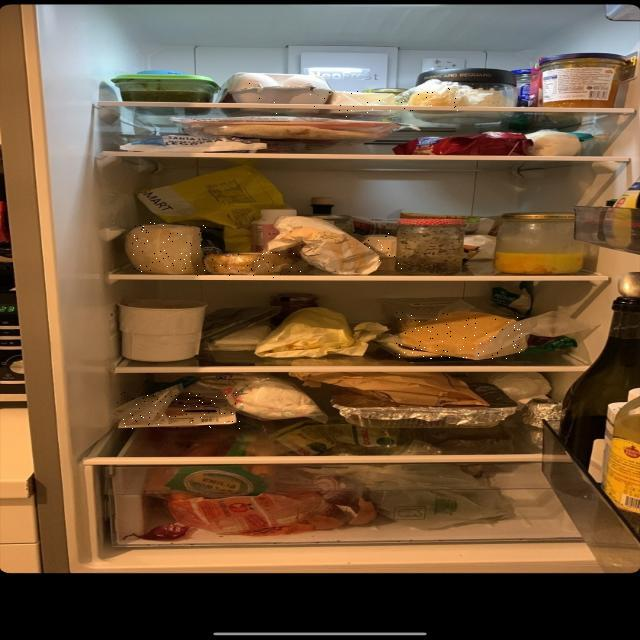butter: (333, 91, 399, 117)
cheese: (395, 312, 522, 359), (130, 222, 210, 276), (210, 252, 307, 278), (364, 233, 408, 272)
eggs: (224, 70, 330, 114)
ham: (117, 392, 246, 429)
lemon: (401, 85, 473, 112)
